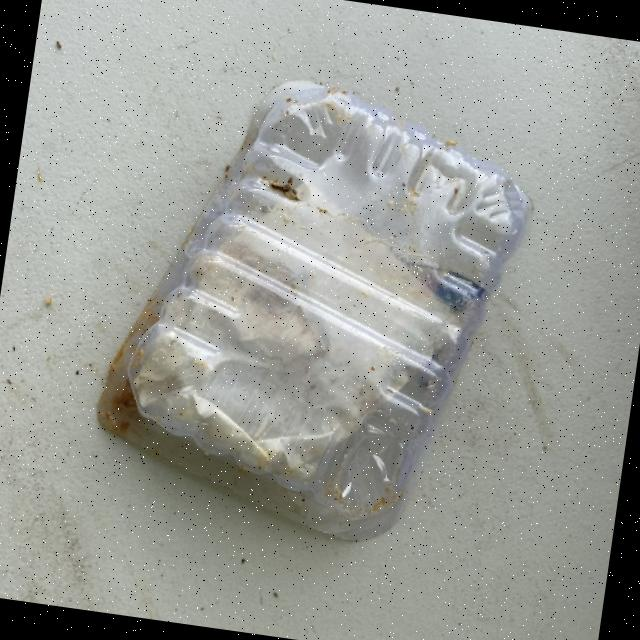plastic: (84, 56, 546, 560)
